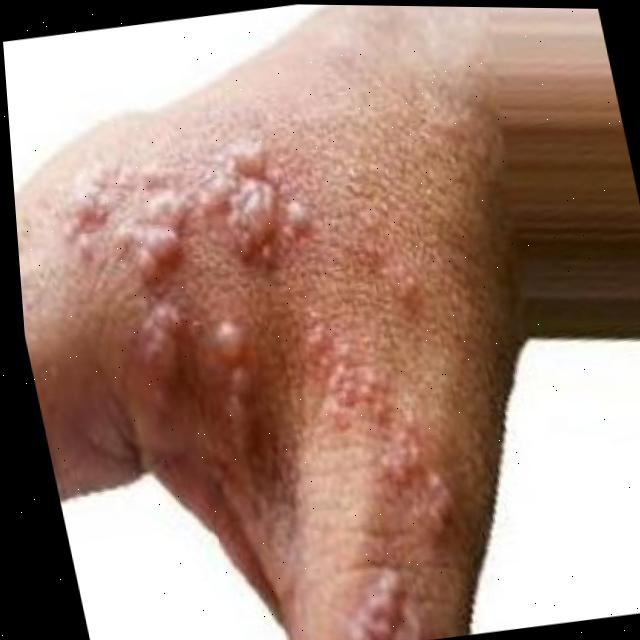Shingles: (50, 107, 488, 640)
